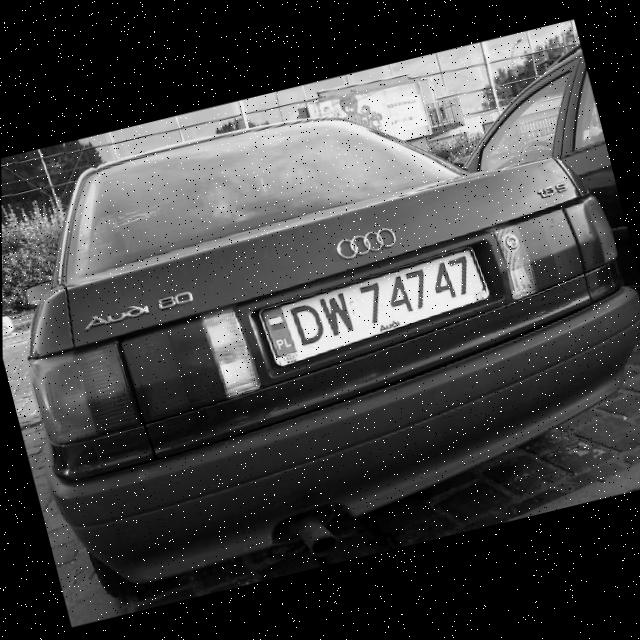license-plates: (260, 252, 489, 366)
